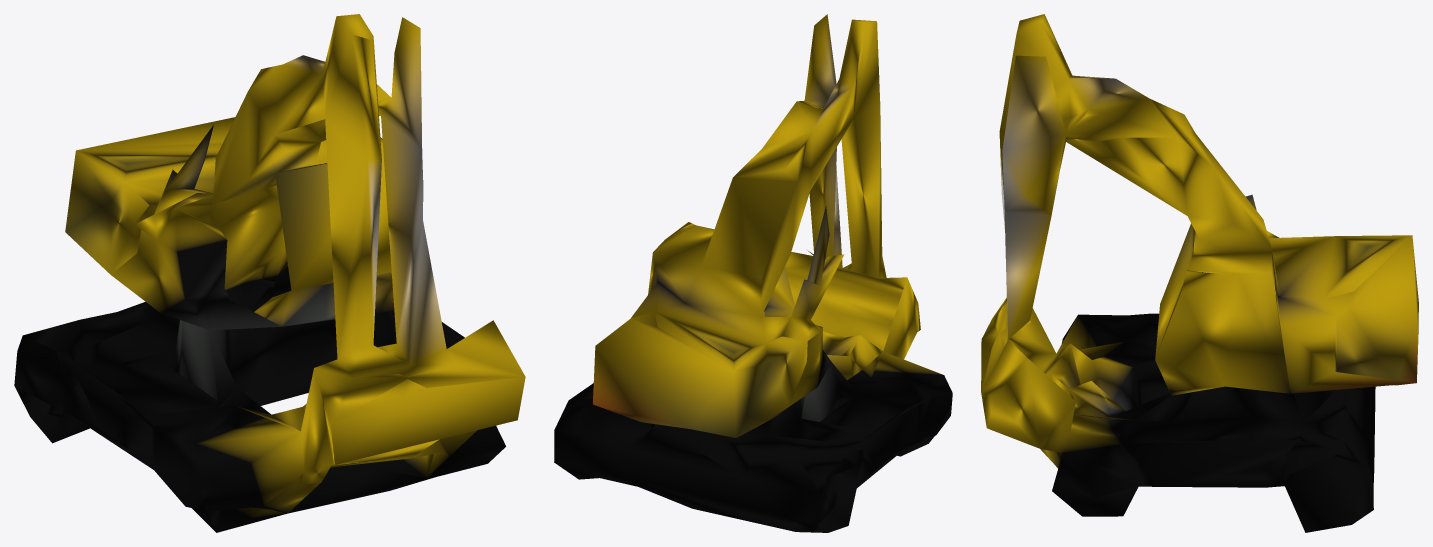
Rendered from gen3d-excavator-lod1.glb.
3 views of the same model, side by side, from view 1: azimuth 30°, elevation 25°; view 2: azimuth 150°, elevation 25°; view 3: azimuth 270°, elevation 25° (orthographic). The views are drawn at different scales.
Parts seen in each view (by area): view 1: part_0; view 2: part_0; view 3: part_0.
Part boxes in pixels (x1,y1,x2,y2): part_0: (14, 14, 525, 532); part_0: (554, 14, 952, 532); part_0: (981, 14, 1418, 532).
Size of the model in its own units: 0.7058 by 0.9953 by 0.9128.
